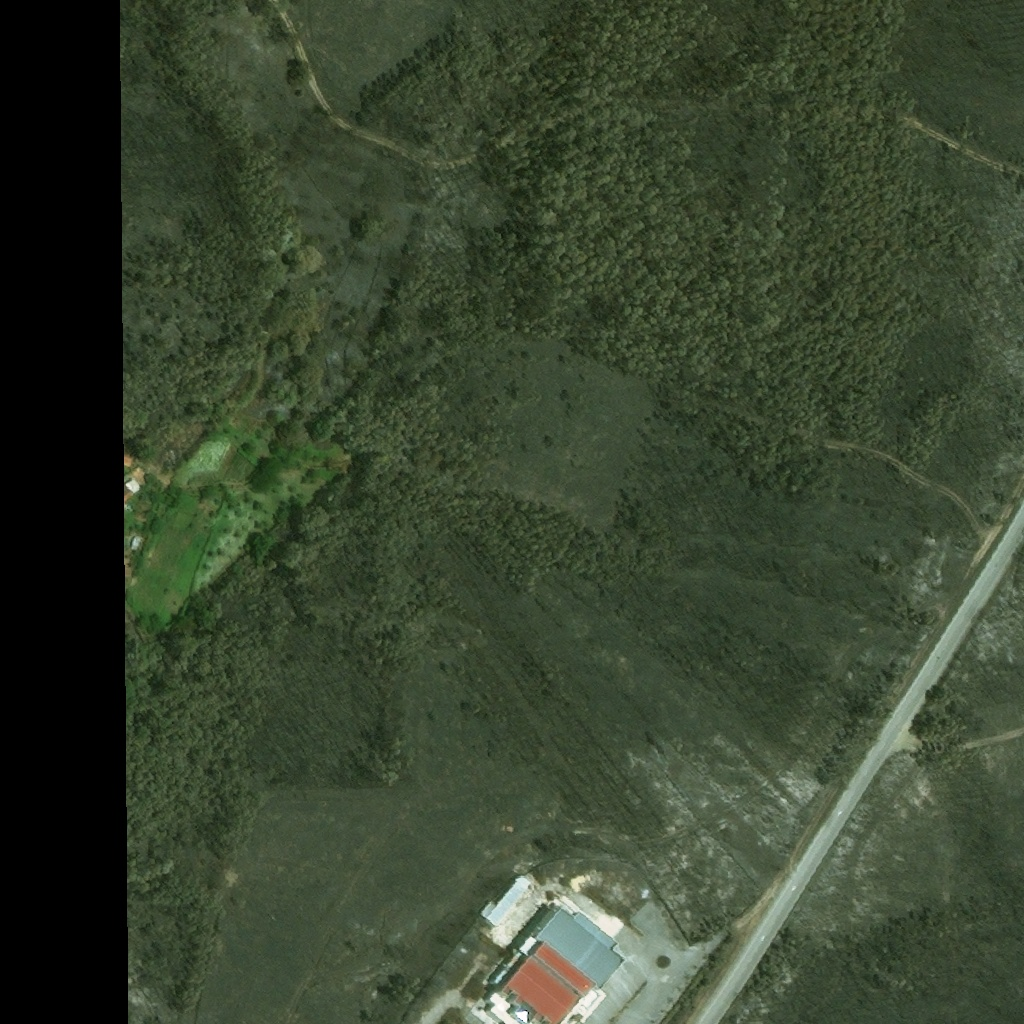0 no-damage: (481, 897, 629, 1023), (478, 873, 532, 927), (130, 534, 142, 553)
4 un-classified: (130, 466, 151, 498), (162, 452, 179, 469)
